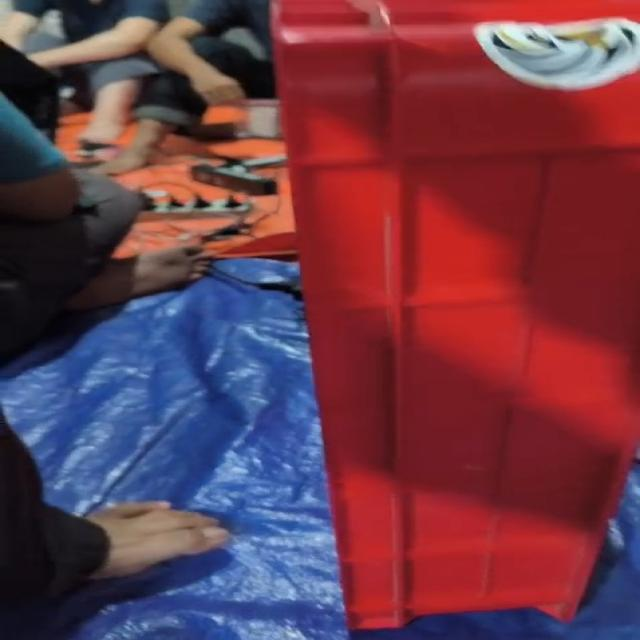red plastic box: (271, 0, 638, 630)
